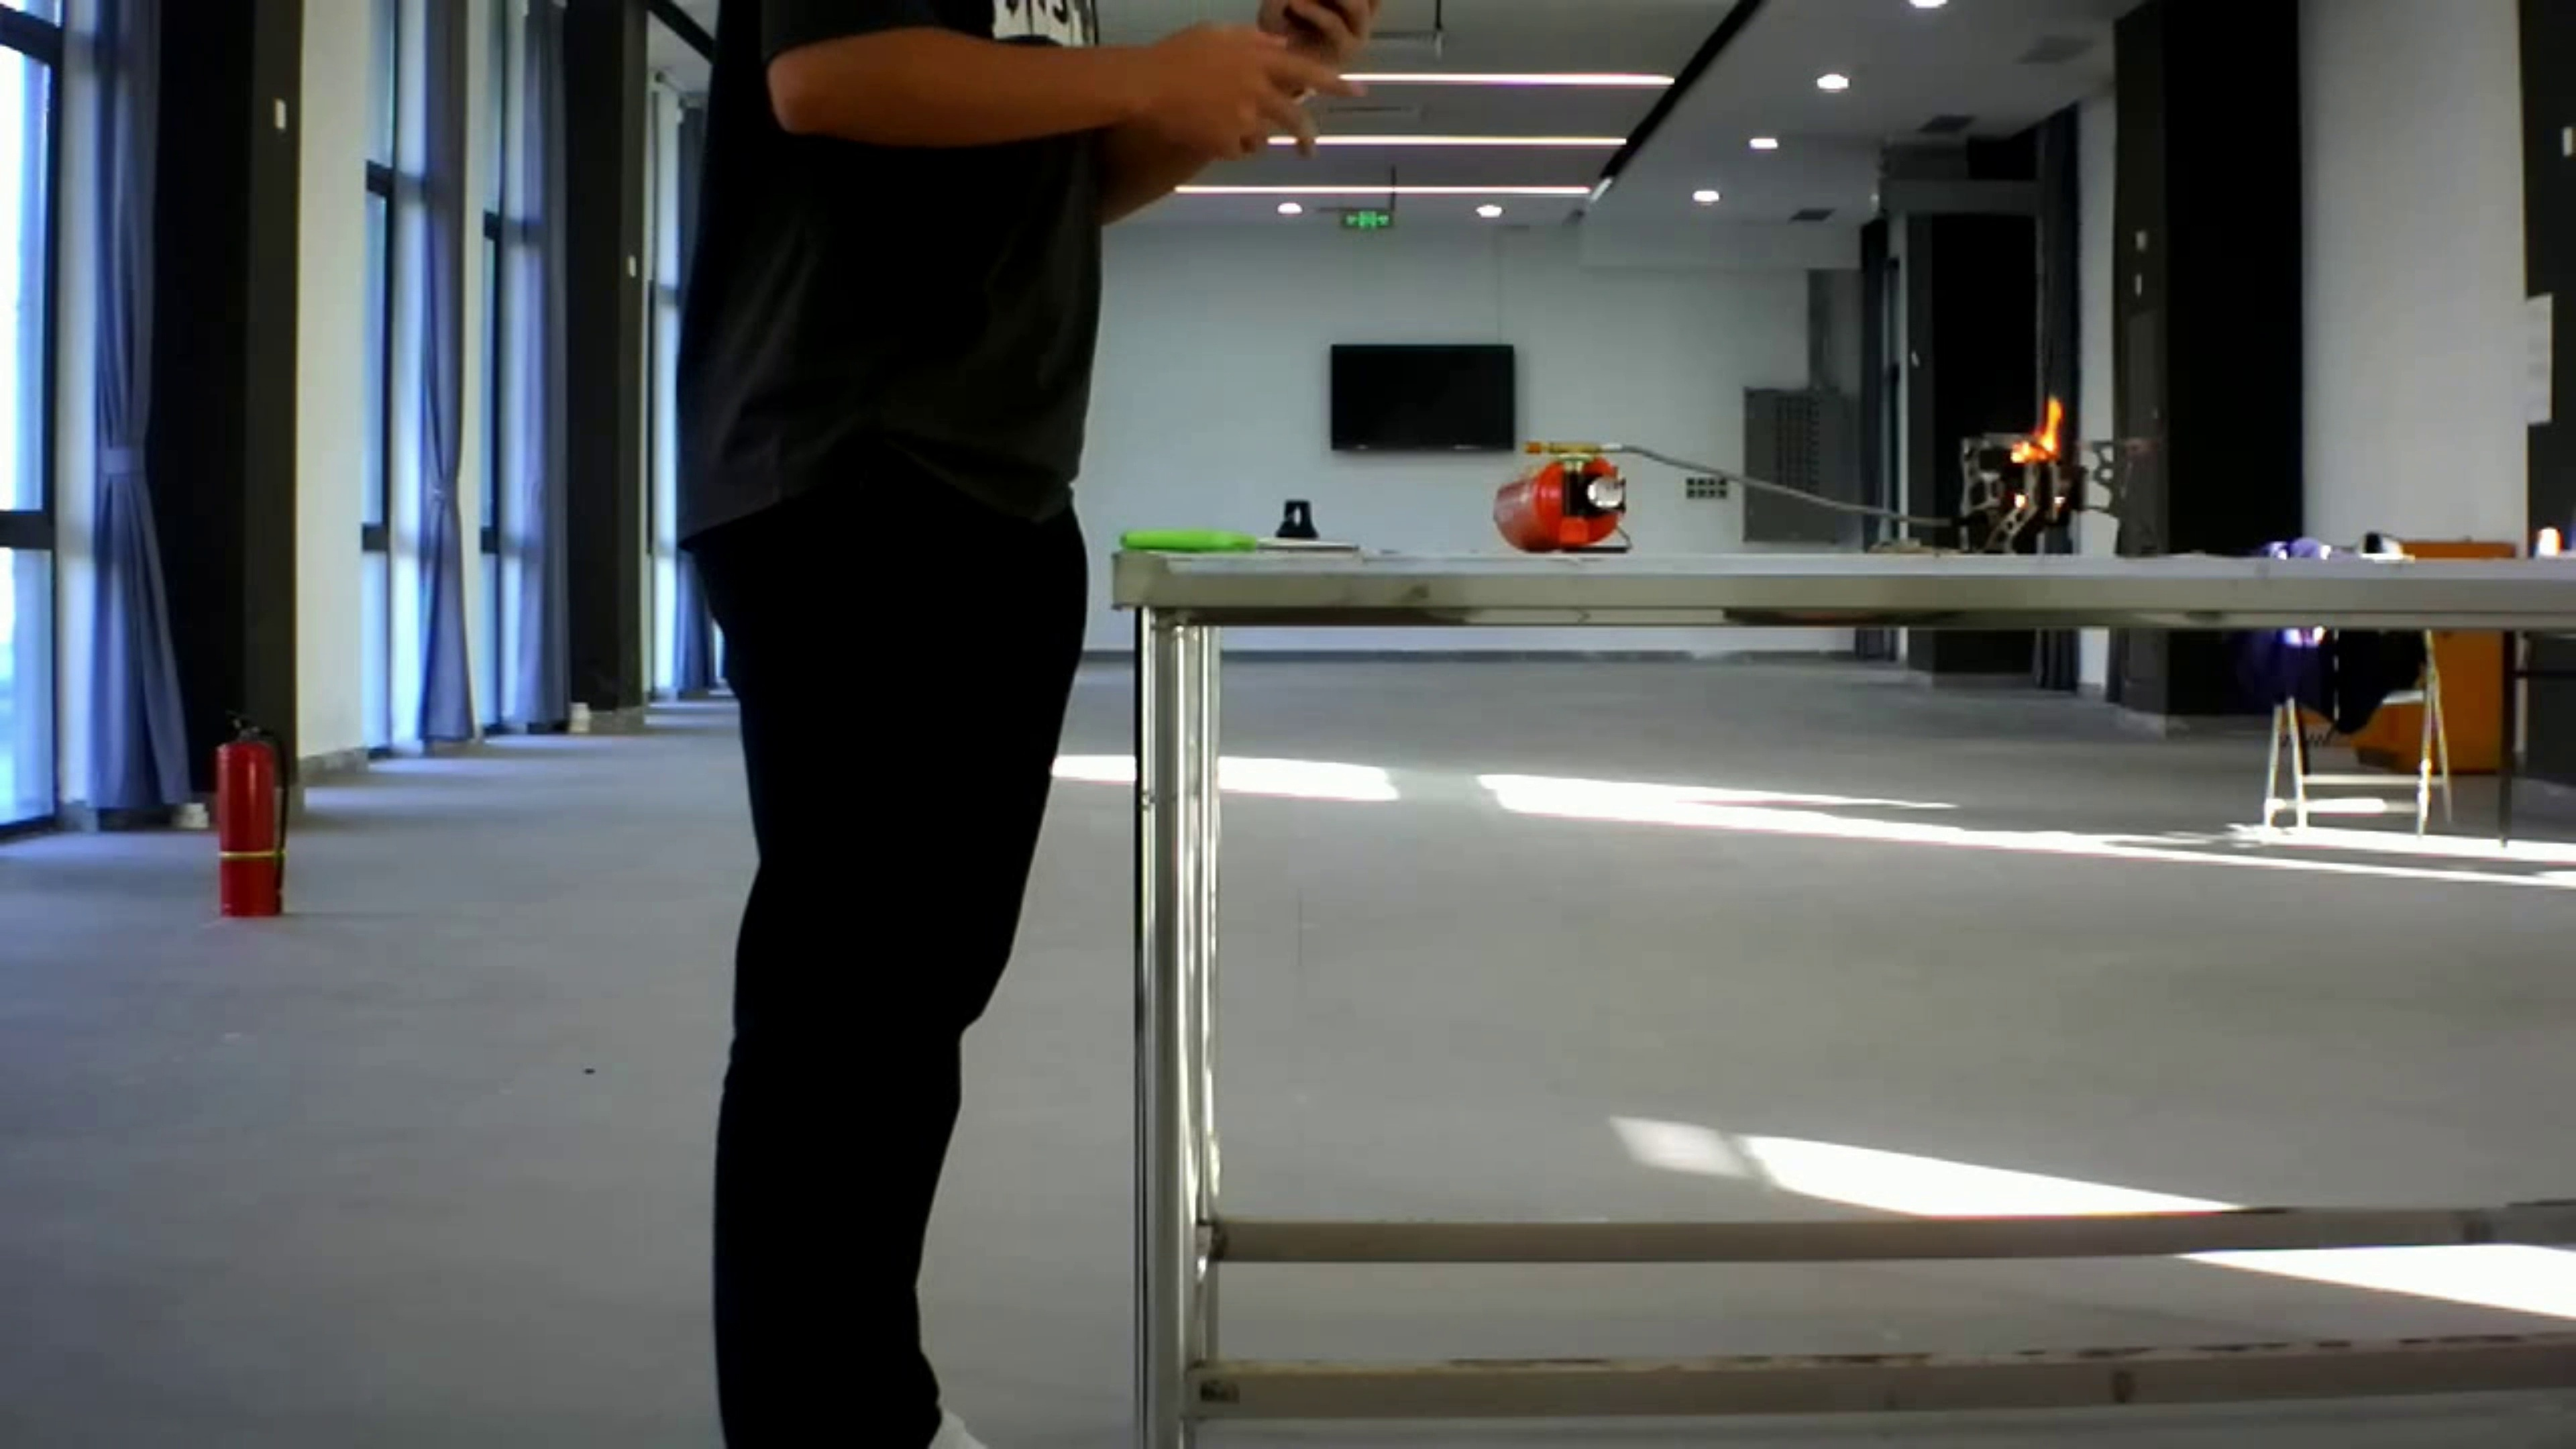Fire: (1985, 379, 2074, 490)
